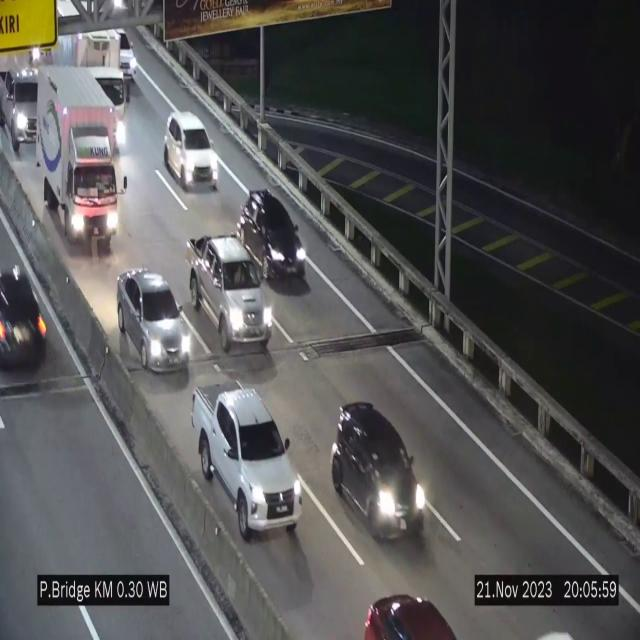Car: (191, 377, 305, 543), (328, 398, 429, 547), (188, 232, 272, 361), (0, 252, 64, 382), (117, 268, 191, 376), (361, 564, 457, 640), (236, 189, 308, 288), (164, 112, 218, 190), (113, 16, 145, 85)
Truck: (34, 64, 128, 257), (51, 11, 127, 141), (0, 49, 52, 149)
